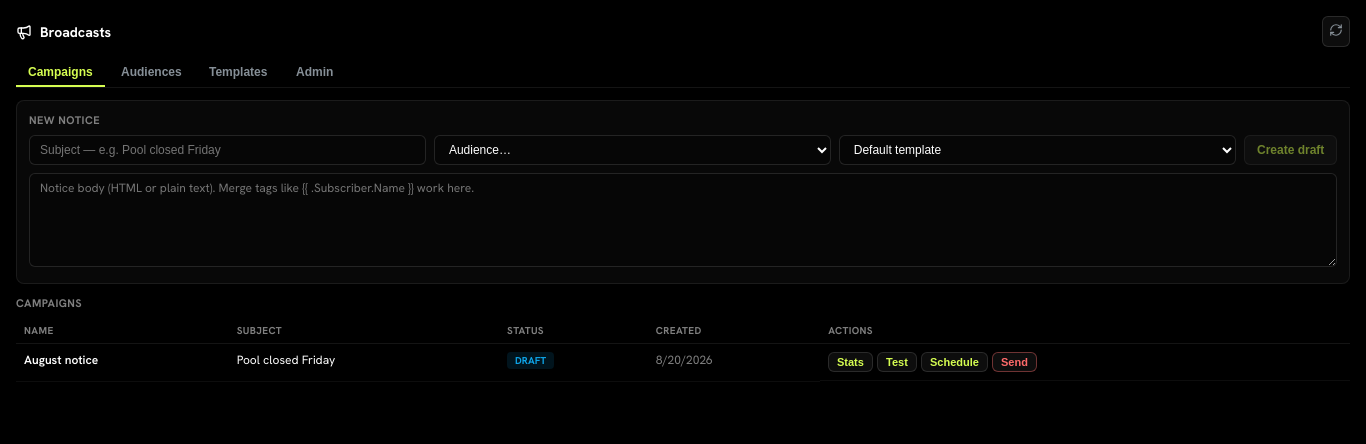
Test: Broadcasts widget — Campaigns tab › Test-send flow POSTs the address to /campaigns/:id/test
Expected: the tab "Campaigns" is shown, 16,59 -> 105,87
Click the button with aria-label "Test-send August notice" at (897,362), box 877,352 -> 917,372
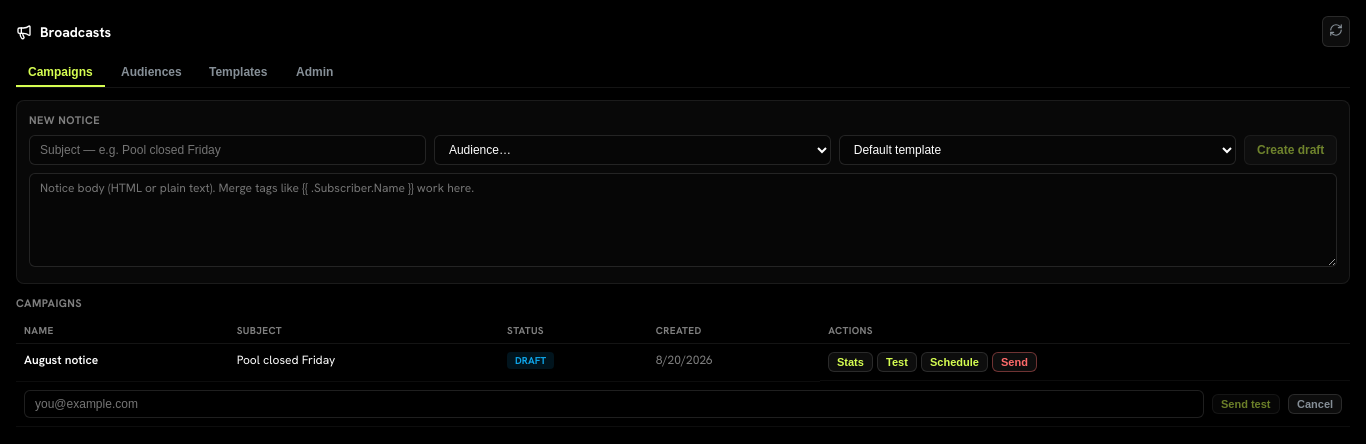
Expected: the button "Send test" is disabled, 1212,394 -> 1280,414
Type "andy@example.com" into the field named "Test e-mail address" at (614,404), box 24,390 -> 1204,418
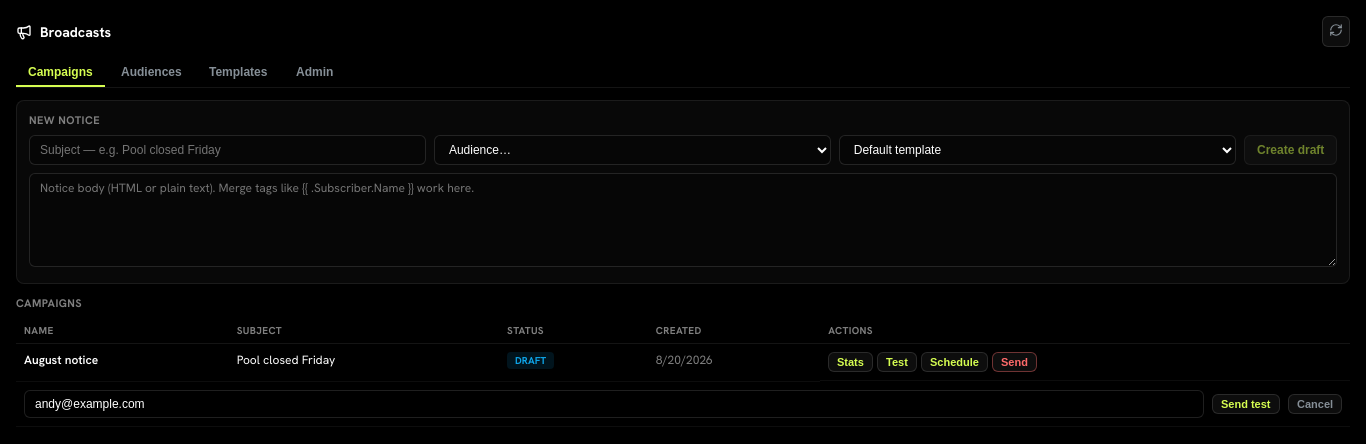
Expected: the button "Send test" is enabled
Click the button "Send test" at (1246,404), box 1212,394 -> 1280,414
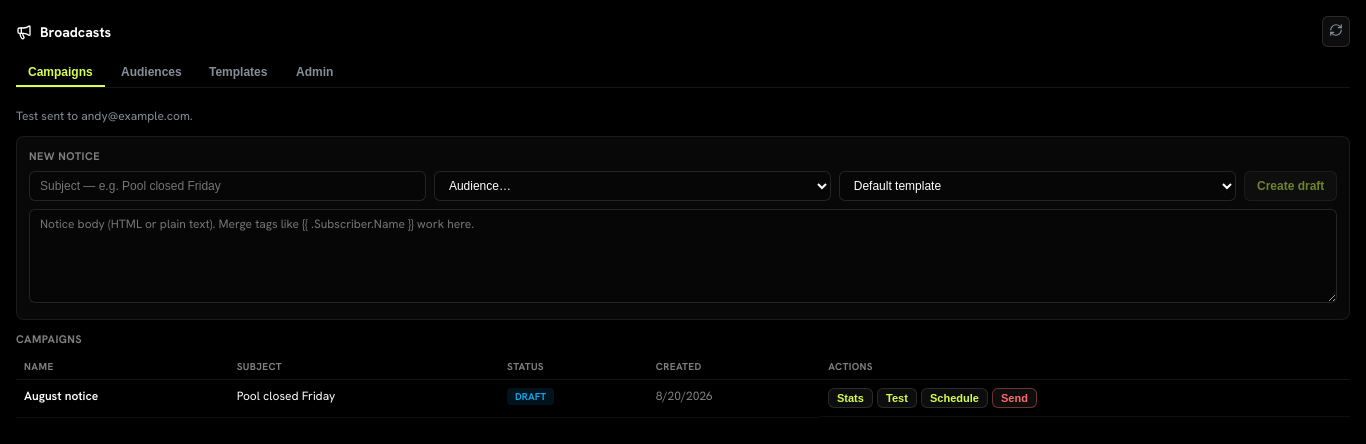
Expected: the text "Test sent to andy@example.com." is shown, 16,108 -> 193,124
